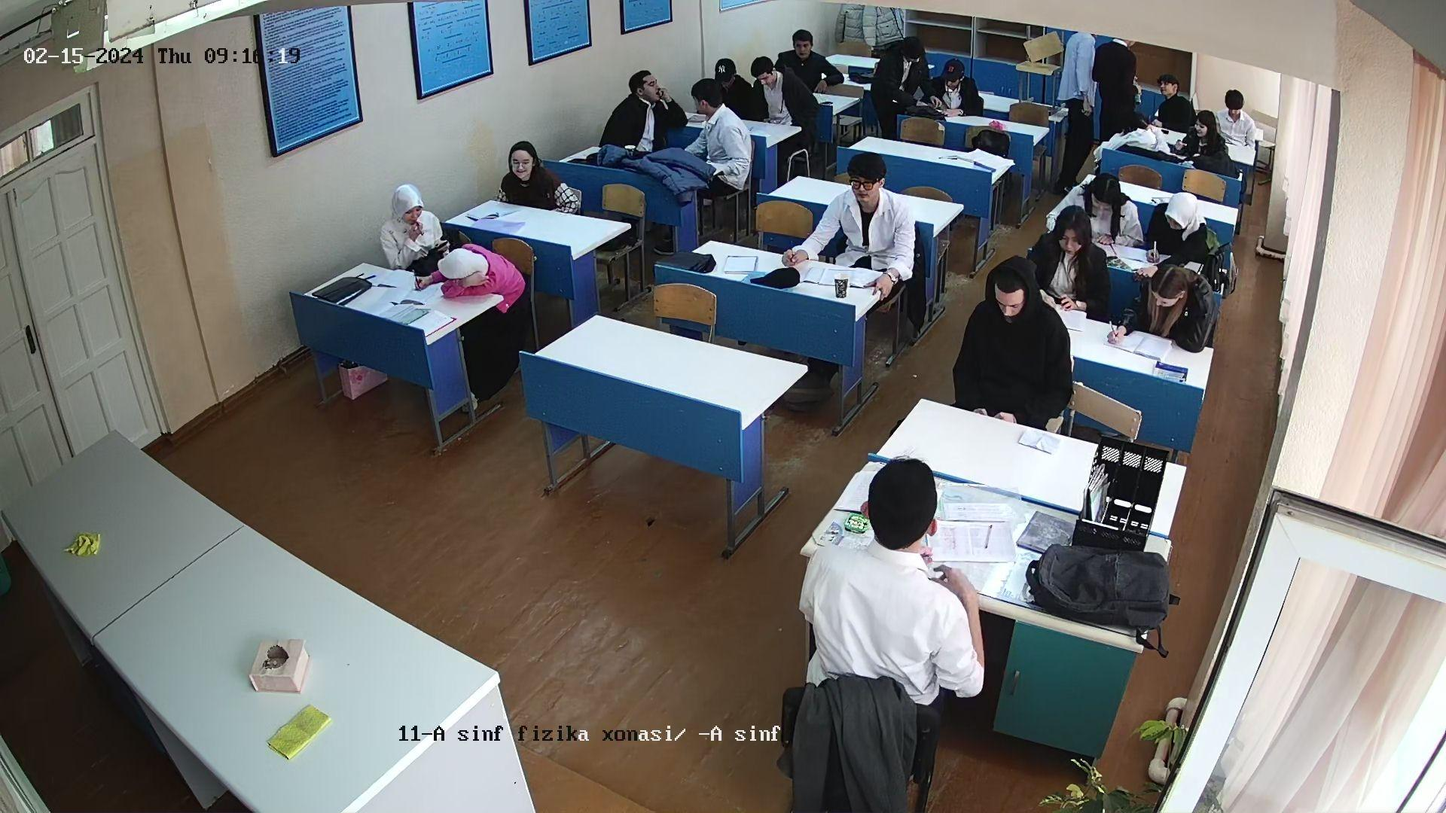Bend Over The Desk: (423, 244, 524, 308)
Hand Under Table: (965, 387, 1037, 427)
Look Around: (684, 84, 747, 197), (606, 63, 684, 145), (384, 183, 441, 249), (1150, 73, 1193, 132), (1187, 116, 1229, 173)
Normal: (782, 157, 921, 277), (1129, 265, 1212, 354), (1044, 209, 1108, 301), (1146, 192, 1210, 255), (934, 59, 977, 122), (1220, 87, 1259, 151), (1087, 172, 1137, 211)
Stand Up: (872, 31, 925, 134), (1095, 41, 1143, 133), (1065, 29, 1090, 176)
